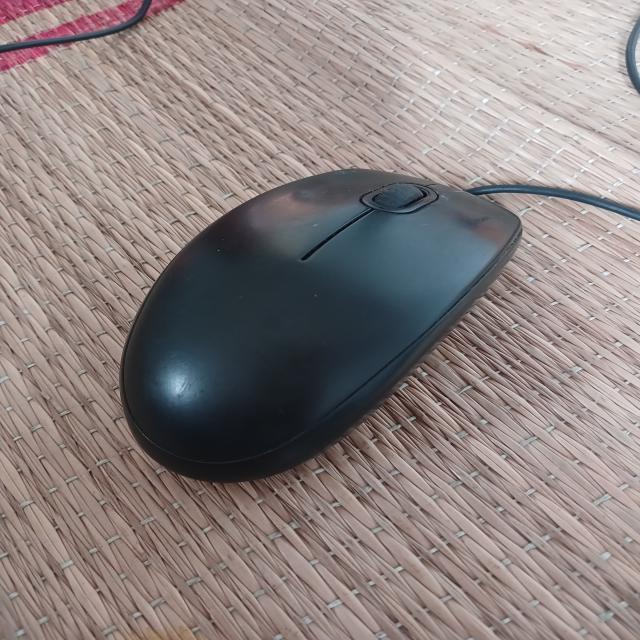mouse: (113, 162, 529, 492)
